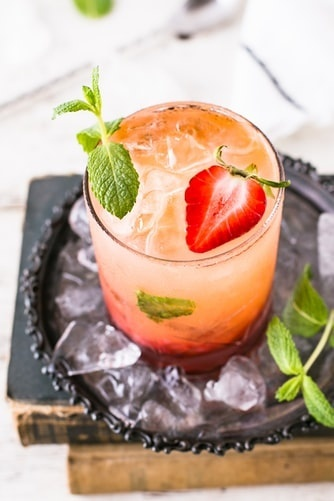whiskey: (91, 100, 277, 375)
